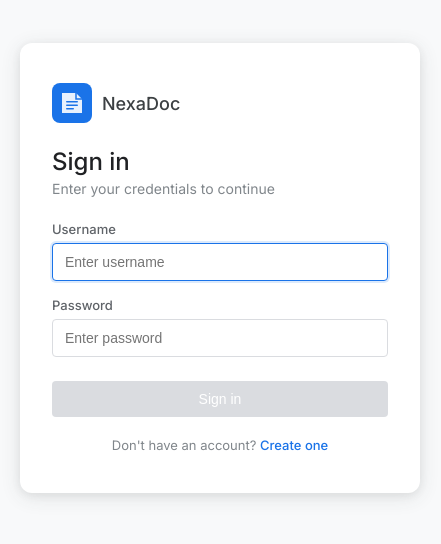
Test: LoginPage › displays error on login failure
Type "alice" into the field with placeholder "Enter username". click: (220, 262)
box: [52,243,388,281]
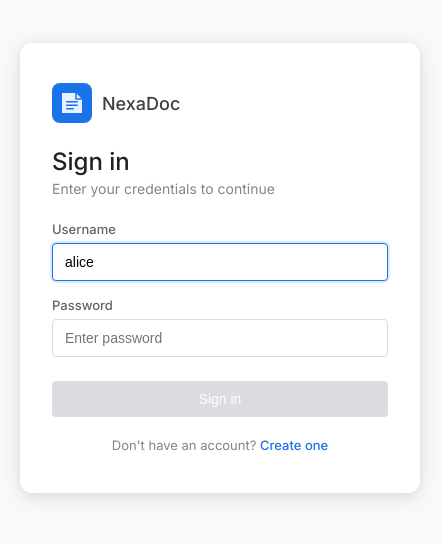
Type "wrong" into the password field with placeholder "Enter password". click: (220, 338)
box: [52,319,388,357]
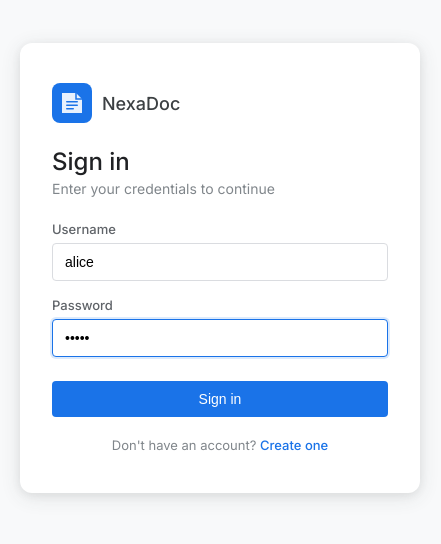
Click the button "Sign in". click: (220, 399)
box: [52,381,388,417]
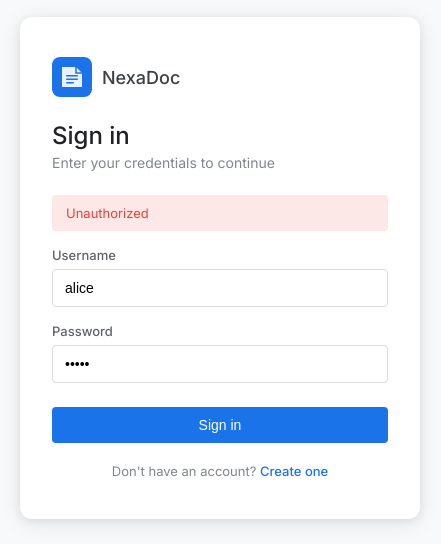
Now the text "Unauthorized" is shown, box [52,195,388,231]
